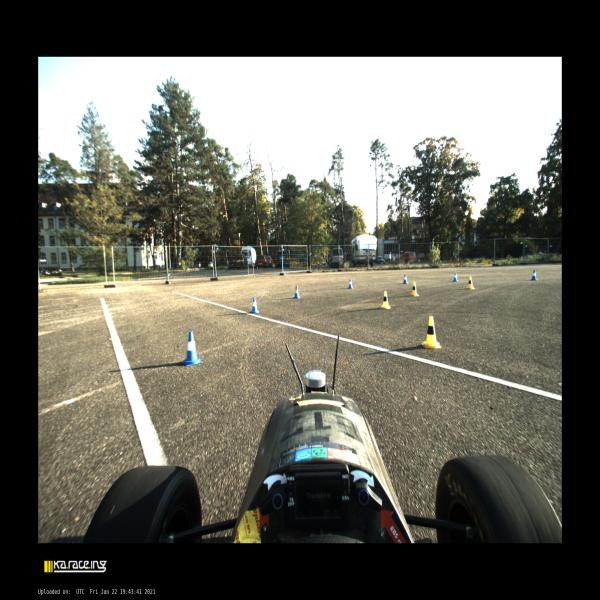blue_cone: (181, 330, 204, 366), (250, 296, 259, 314), (292, 286, 301, 300), (531, 268, 538, 280), (452, 272, 460, 282), (347, 278, 353, 290), (403, 273, 408, 284)
yellow_cone: (421, 315, 442, 349), (381, 289, 391, 310), (410, 282, 420, 298), (466, 276, 475, 290)
